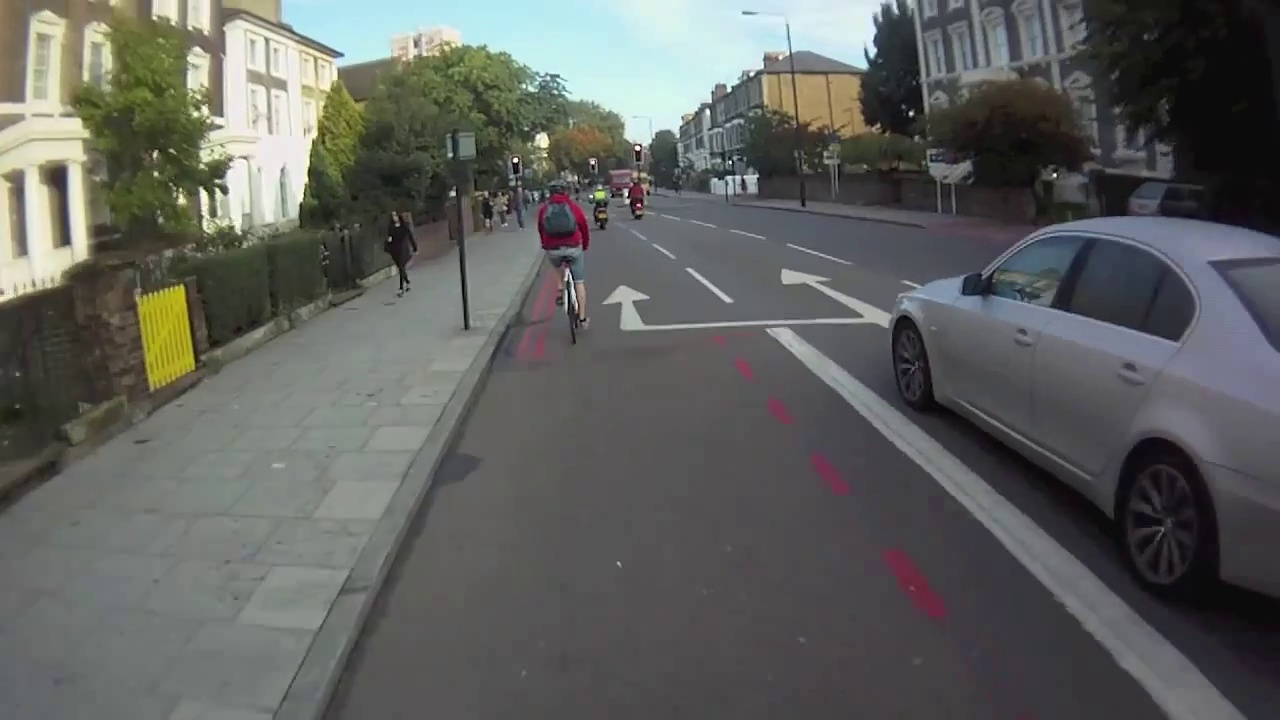cyclist_back: (530, 172, 593, 352), (624, 170, 649, 224), (589, 181, 613, 235)
